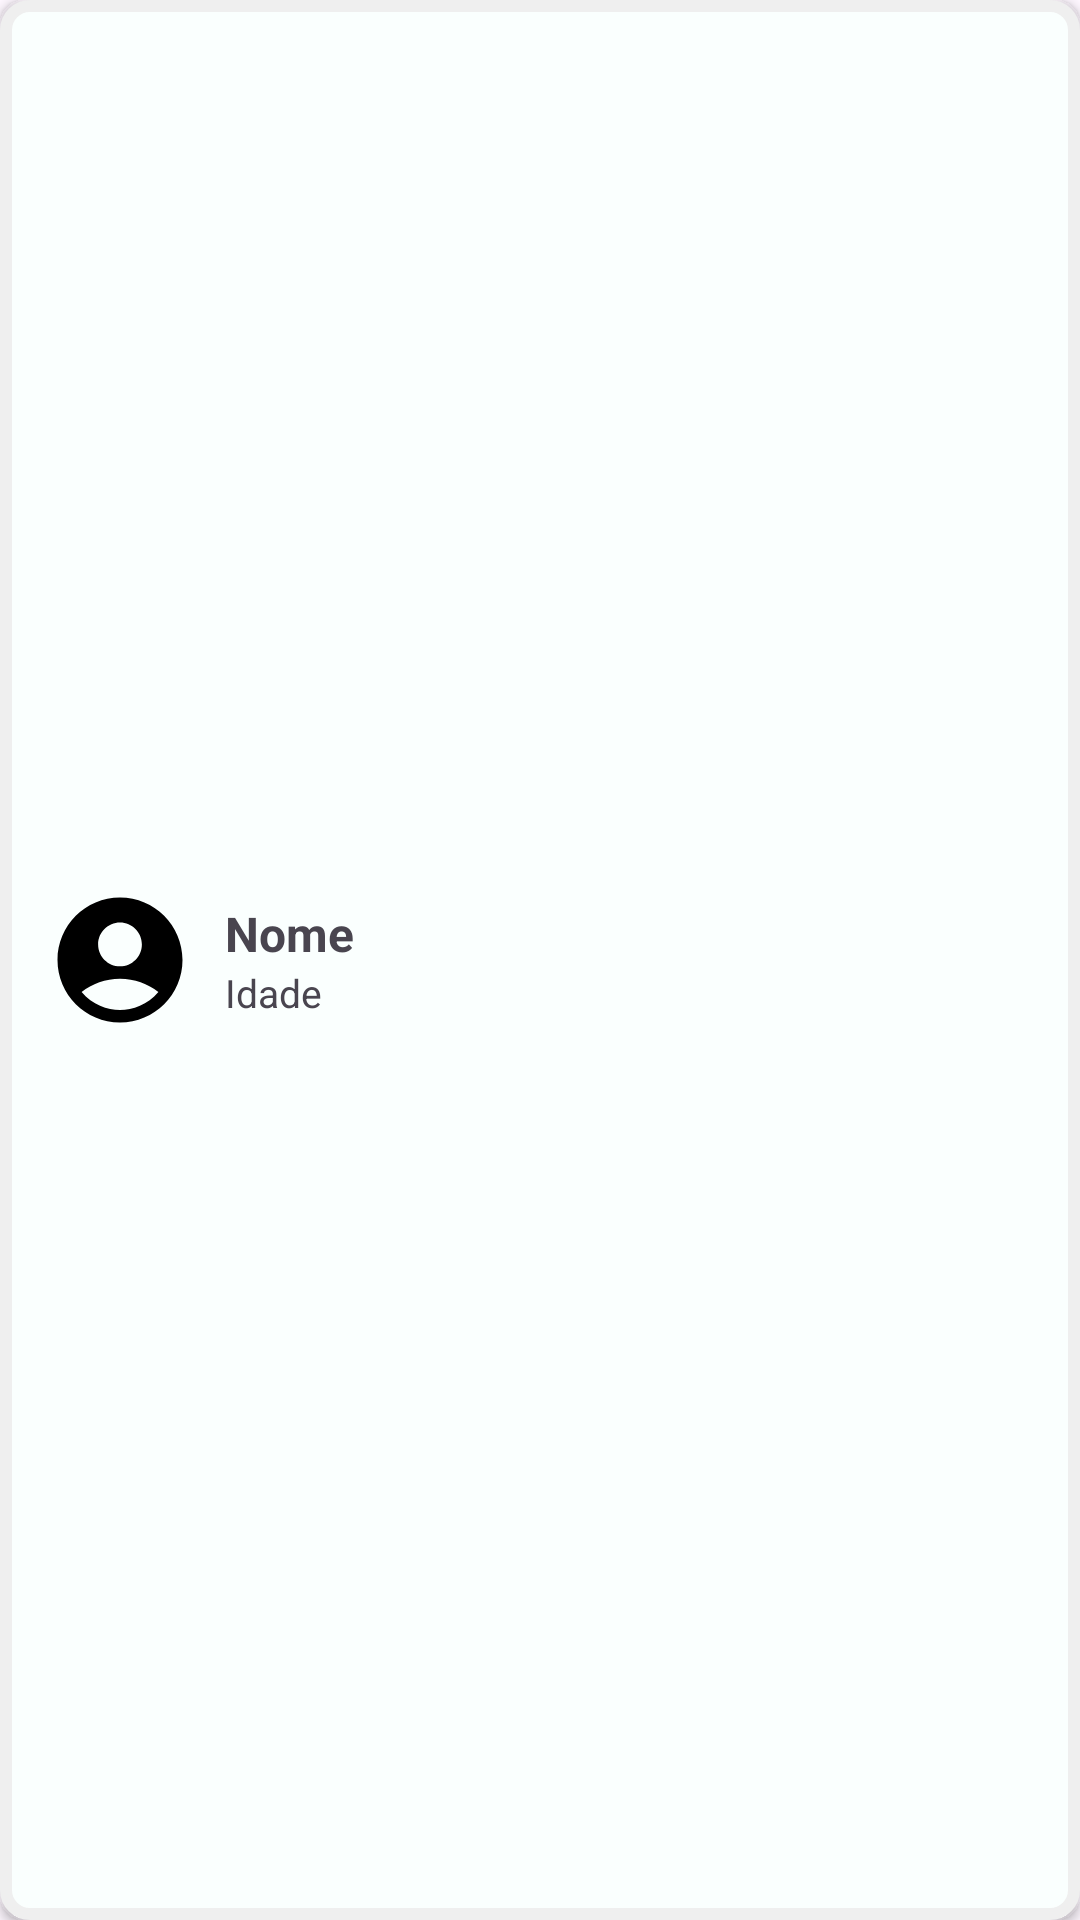

Locate icon controls on the screen. Image size 1080 × 1920, boxes as bbox=(x1, y1, x2, y2).
account circle: bbox=(57, 897, 183, 1023)
